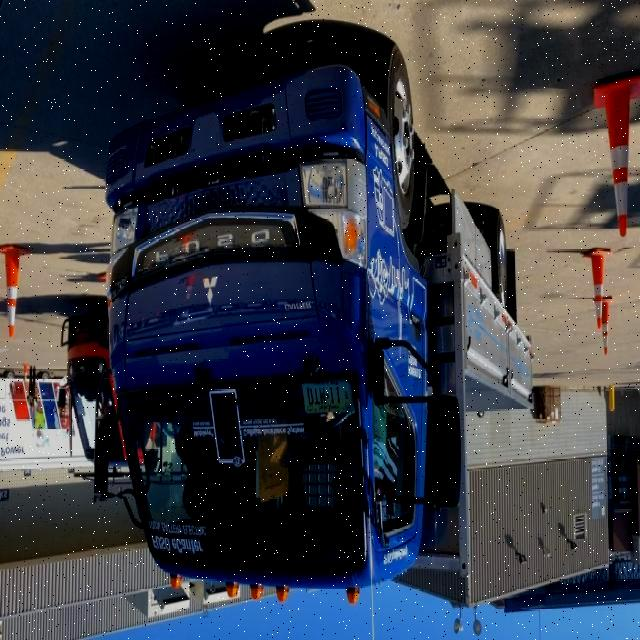truck: (94, 45, 530, 612)
